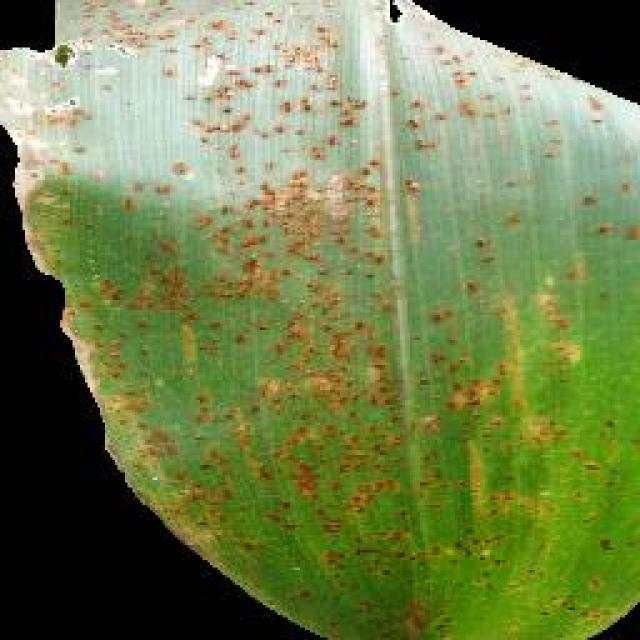Corn Common Rust: (85, 48, 572, 530)
